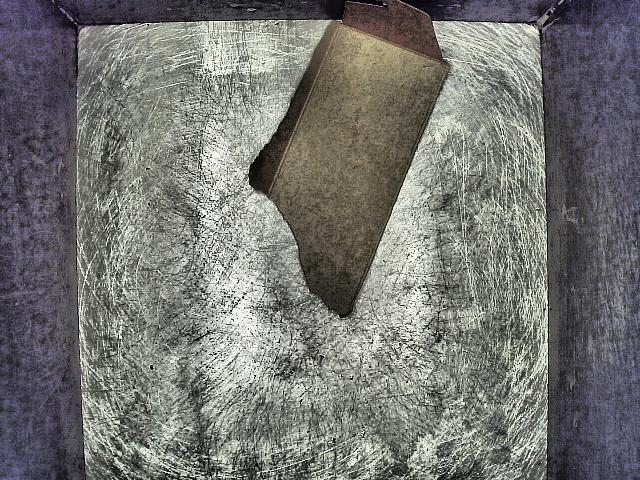Paper: (239, 0, 460, 348)
